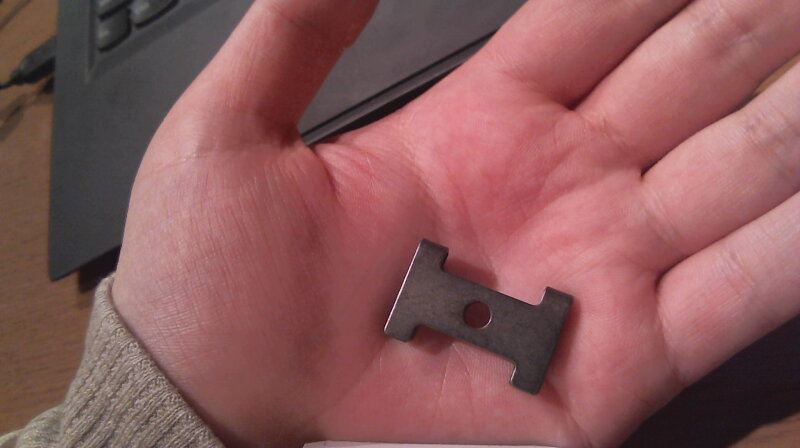O002: (377, 232, 580, 397)
